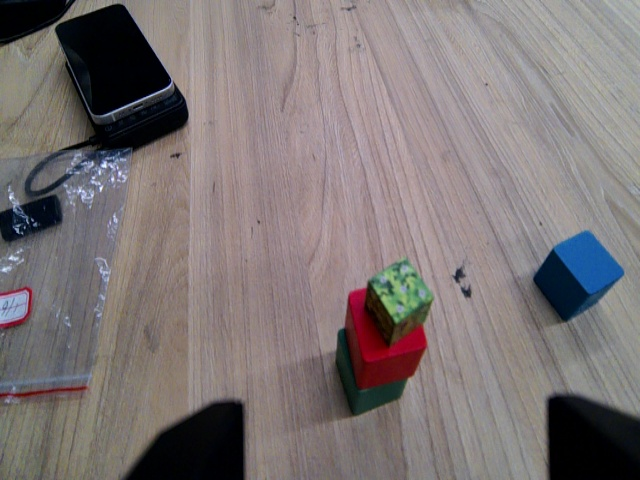grass: (365, 256, 435, 345)
